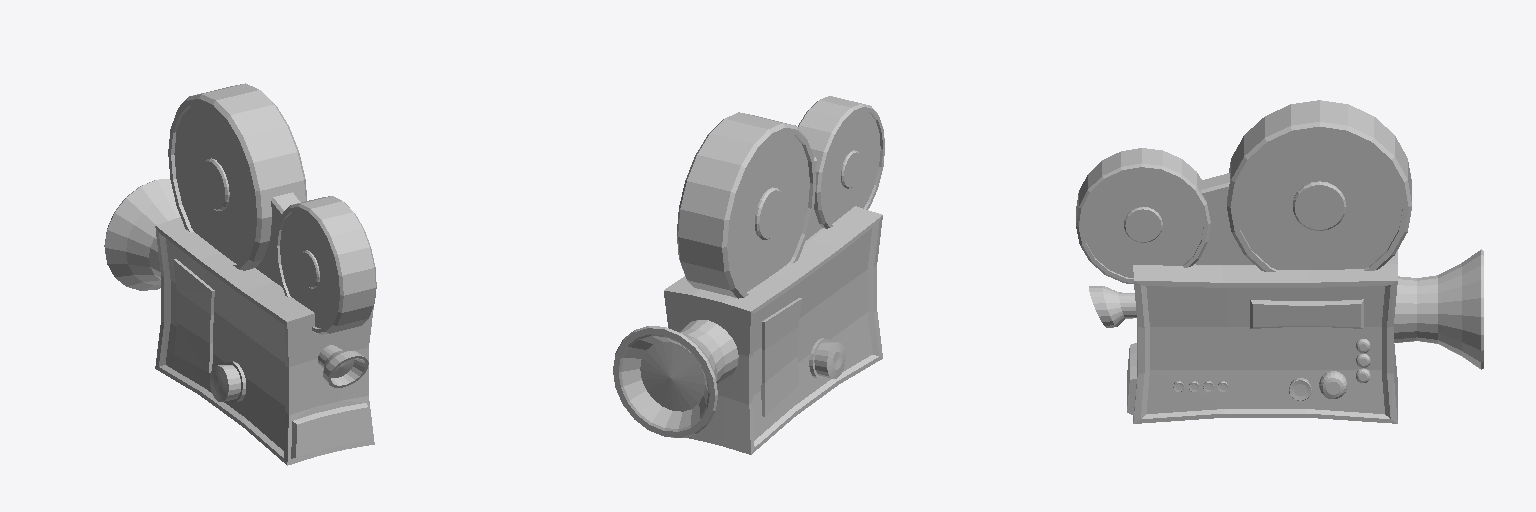
The model's file is Camera.obj.
3 views of the same model, side by side, from view 1: azimuth 30°, elevation 25°; view 2: azimuth 150°, elevation 25°; view 3: azimuth 270°, elevation 25° (orthographic).
Parts seen in each view (by area): view 1: cameraModel:camera; view 2: cameraModel:camera; view 3: cameraModel:camera.
Boxes of the visible parts, x1,y1,x2,y2 form: cameraModel:camera: [104, 83, 376, 465]; cameraModel:camera: [613, 96, 884, 454]; cameraModel:camera: [1076, 100, 1483, 423].
Size of the model in its own units: 1.83 by 4.68 by 5.93.